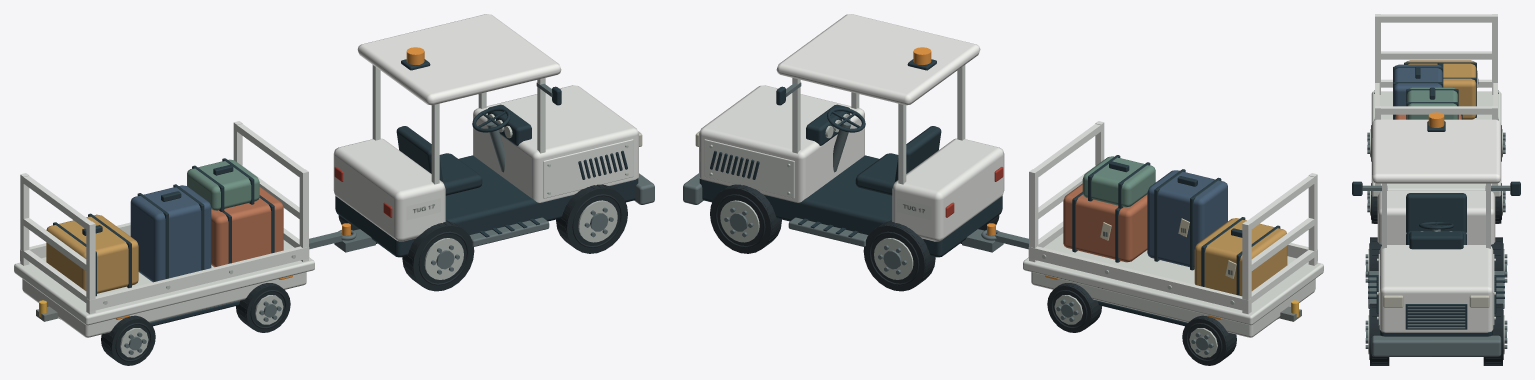
3 renders of one model, left to right at view 1: azimuth 30°, elevation 25°; view 2: azimuth 150°, elevation 25°; view 3: azimuth 270°, elevation 25°, orthographic. The views are drawn at different scales.
Parts seen in each view (by area): view 1: body, baggage_trailer, baggage_cargo, wheel_front_right, wheel_rear_right, baggage_wheel_rear_right, baggage_wheel_front_right; view 2: body, baggage_trailer, baggage_cargo, wheel_front_left, wheel_rear_left, baggage_wheel_rear_left, baggage_wheel_front_left; view 3: body, baggage_trailer, baggage_cargo, wheel_front_right, wheel_front_left, wheel_rear_right, wheel_rear_left, baggage_wheel_front_right, baggage_wheel_front_left, headR, headL.
Boxes of the visible parts, x1,y1,x2,y2 form: body: [333, 14, 654, 257]; baggage_trailer: [14, 121, 356, 337]; baggage_cargo: [46, 158, 283, 296]; wheel_front_right: [556, 184, 627, 253]; wheel_rear_right: [402, 220, 474, 291]; baggage_wheel_rear_right: [101, 315, 155, 365]; baggage_wheel_front_right: [236, 283, 290, 332]; body: [683, 14, 1004, 257]; baggage_trailer: [981, 121, 1323, 337]; baggage_cargo: [1063, 155, 1287, 296]; wheel_front_left: [710, 184, 781, 253]; wheel_rear_left: [863, 220, 935, 291]; baggage_wheel_rear_left: [1182, 315, 1236, 365]; baggage_wheel_front_left: [1047, 283, 1101, 332]; body: [1352, 112, 1520, 356]; baggage_trailer: [1371, 14, 1501, 196]; baggage_cargo: [1393, 60, 1478, 119]; wheel_front_right: [1365, 303, 1389, 365]; wheel_front_left: [1483, 303, 1507, 365]; wheel_rear_right: [1365, 237, 1381, 282]; wheel_rear_left: [1491, 237, 1507, 282]; baggage_wheel_front_right: [1367, 183, 1377, 223]; baggage_wheel_front_left: [1495, 183, 1505, 223]; headR: [1383, 295, 1403, 307]; headL: [1469, 295, 1489, 307].
Bounding box in the file's own units: 7.39 × 2.56 × 2.11.
Materials: 24 (1 with a texture image).
